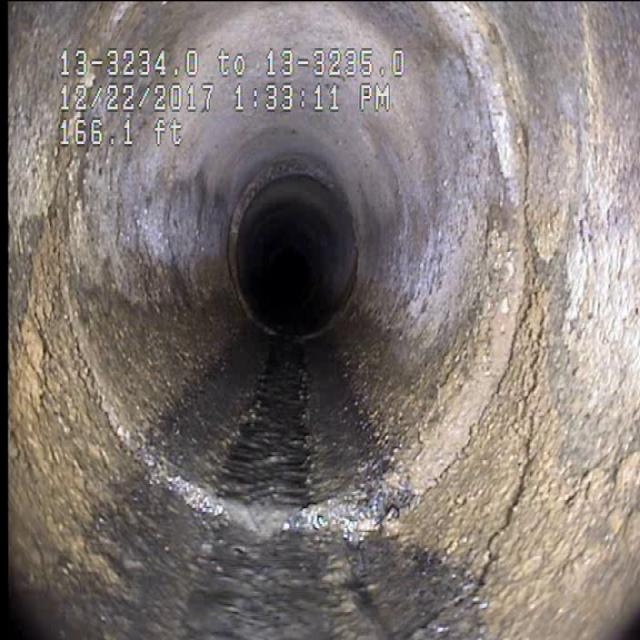Crack: (418, 281, 582, 578)
